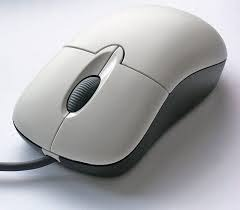mouse: (10, 0, 229, 176)
